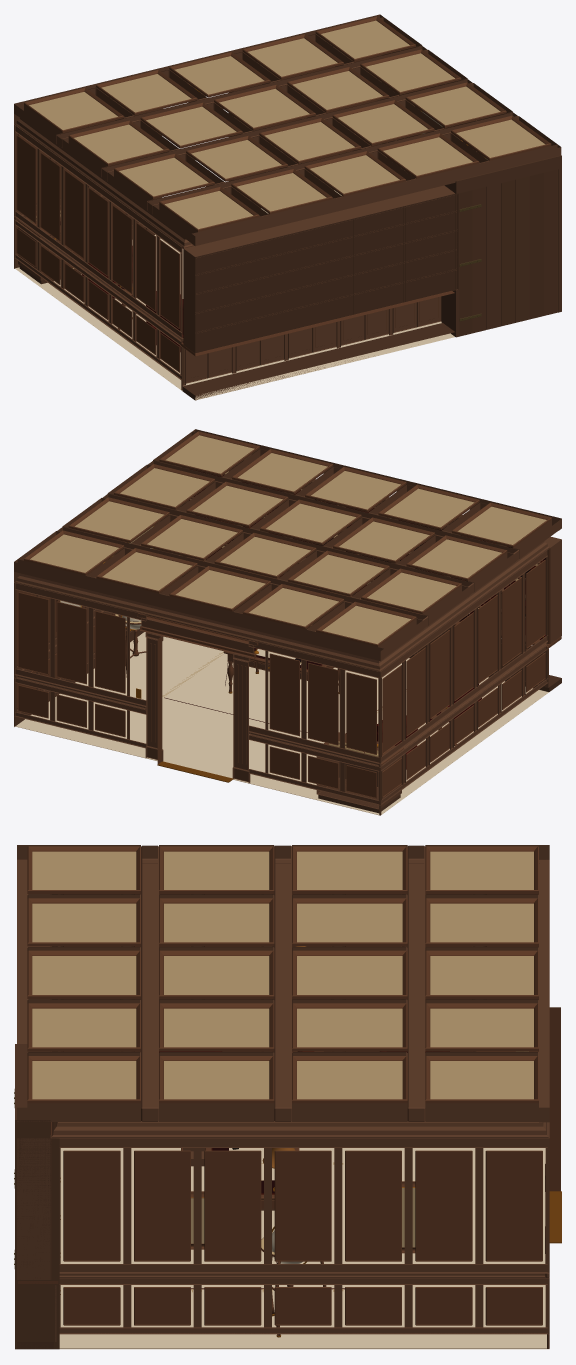
Rendered from lounge.glb.
3 renders of one model, top to bottom at view 1: azimuth 30°, elevation 25°; view 2: azimuth 150°, elevation 25°; view 3: azimuth 270°, elevation 25°, orthographic. The views are drawn at different scales.
Visible parts, largest first — view 1: lounge_wood, lounge_decal@lo, lounge_wood@lo, lounge_wood@secret, lounge_decal; view 2: lounge_wood, lounge_decal@lo, lounge_wood@lo, lounge_decal, lounge_leather, lounge_brass; view 3: lounge_wood, lounge_decal@lo, lounge_wood@lo, lounge_decal, lounge_brass.
Part boxes in pixels (box(x1,y1,x2,y2)): lounge_wood: box(14, 41, 561, 400); lounge_decal@lo: box(29, 20, 545, 229); lounge_wood@lo: box(14, 14, 561, 245); lounge_wood@secret: box(457, 169, 557, 336); lounge_decal: box(14, 111, 487, 400); lounge_wood: box(14, 454, 561, 815); lounge_decal@lo: box(30, 435, 546, 644); lounge_wood@lo: box(14, 429, 561, 660); lounge_decal: box(15, 489, 548, 815); lounge_leather: box(293, 490, 545, 769); lounge_brass: box(81, 526, 543, 782); lounge_wood: box(15, 859, 560, 1349); lounge_decal@lo: box(32, 851, 533, 1099); lounge_wood@lo: box(17, 845, 549, 1122); lounge_decal: box(59, 1051, 549, 1349); lounge_brass: box(60, 1178, 561, 1337).
Size of what is drawn, in the model's own units: 7 by 3.1 by 6.17.
